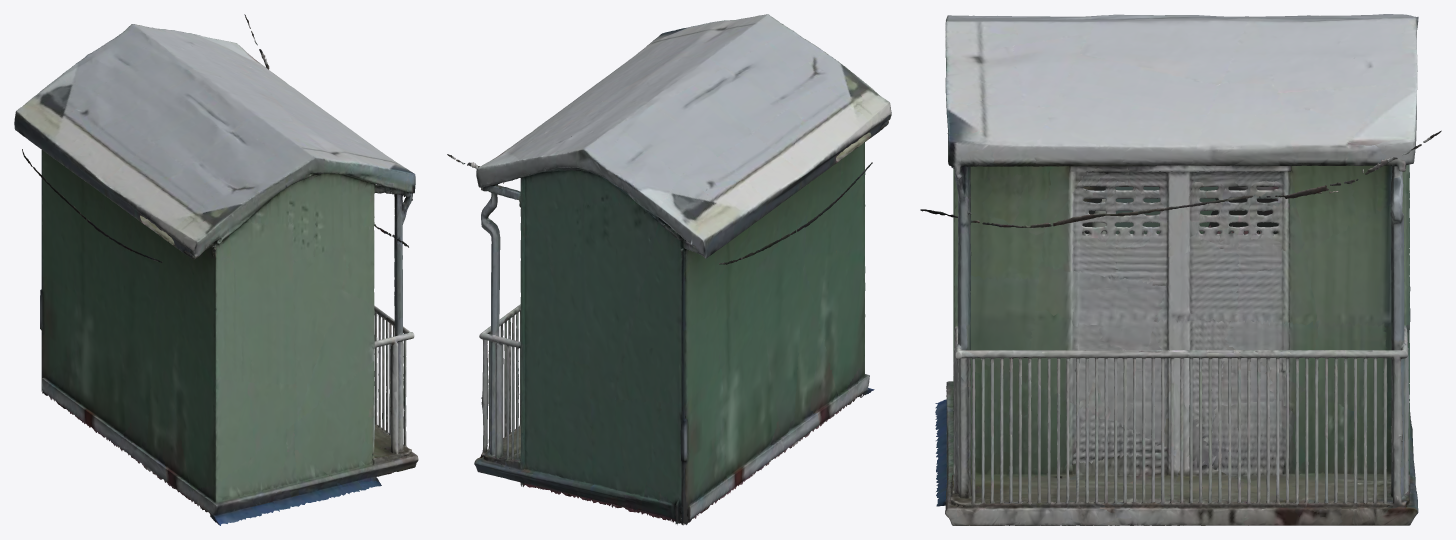
3 renders of one model, left to right at view 1: azimuth 30°, elevation 25°; view 2: azimuth 150°, elevation 25°; view 3: azimuth 270°, elevation 25°, orthographic. The views are drawn at different scales.
Visible parts, largest first — view 1: Meshy_AI_Industrial_Chic_House_0106045541_texture-2; view 2: Meshy_AI_Industrial_Chic_House_0106045541_texture-2; view 3: Meshy_AI_Industrial_Chic_House_0106045541_texture-2.
Part boxes in pixels (left/top/right/bottom): Meshy_AI_Industrial_Chic_House_0106045541_texture-2: left=14, top=14, right=418, bottom=525; Meshy_AI_Industrial_Chic_House_0106045541_texture-2: left=447, top=14, right=891, bottom=525; Meshy_AI_Industrial_Chic_House_0106045541_texture-2: left=920, top=14, right=1441, bottom=525.
Size of the model in its own units: 0.8587 by 1.13 by 1.2.
1 material, 1 textured.
